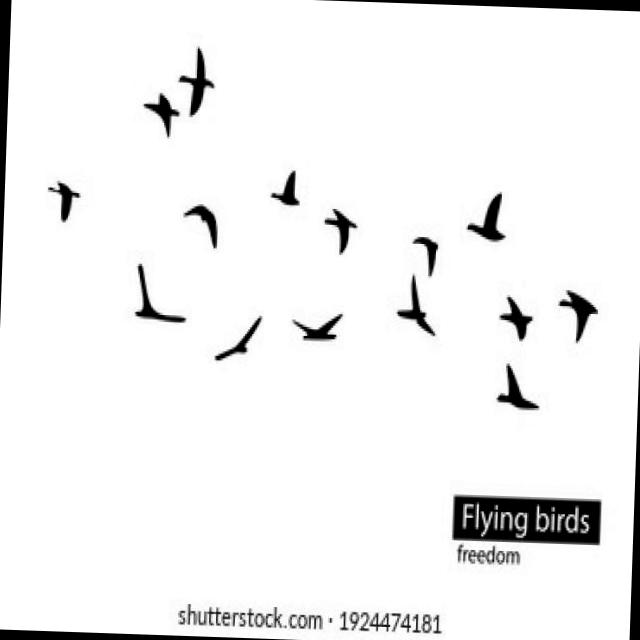bird: (384, 263, 444, 338), (114, 264, 186, 322), (458, 183, 508, 260), (545, 290, 600, 354), (175, 40, 218, 120), (318, 193, 365, 260), (172, 196, 225, 254), (486, 362, 550, 410), (208, 314, 261, 366), (258, 156, 300, 220), (394, 224, 444, 277), (493, 288, 539, 342), (140, 84, 182, 143), (290, 300, 348, 342), (35, 174, 83, 222)
